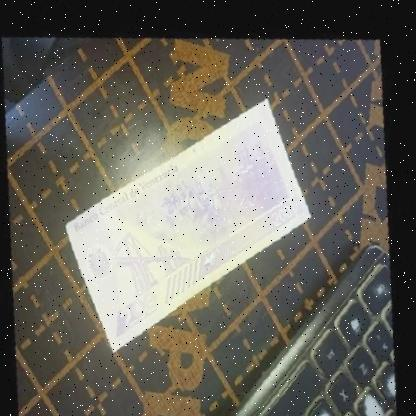two_hundred-back-vef: (60, 73, 319, 368)
